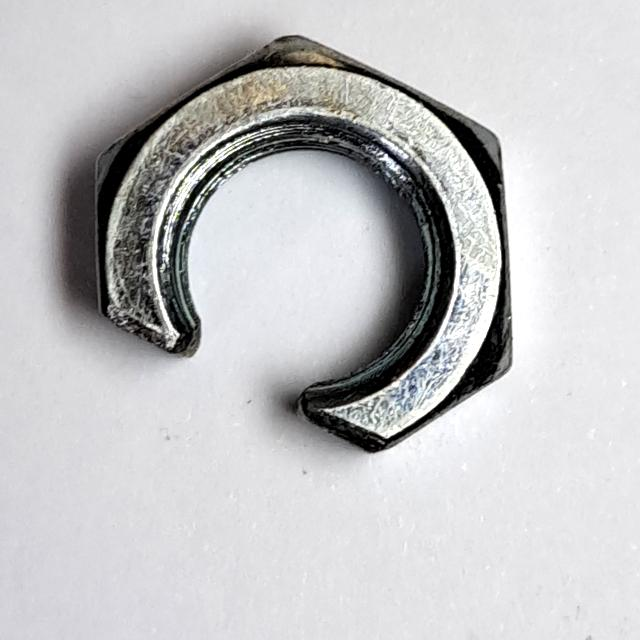Fracture: (74, 8, 536, 484)
